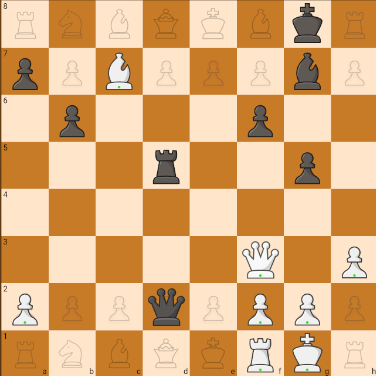bb: (290, 49, 326, 94)
bk: (289, 3, 329, 45)
bp: (5, 54, 44, 94), (53, 99, 91, 140), (290, 147, 325, 187), (246, 101, 278, 140)
bq: (146, 285, 188, 328)
br: (146, 148, 183, 189)
wk: (287, 335, 329, 376), (102, 51, 137, 92)
wp: (336, 246, 374, 280), (8, 290, 40, 328), (290, 293, 323, 328), (245, 293, 275, 325)
wq: (242, 239, 281, 280)
wr: (239, 329, 281, 376)
